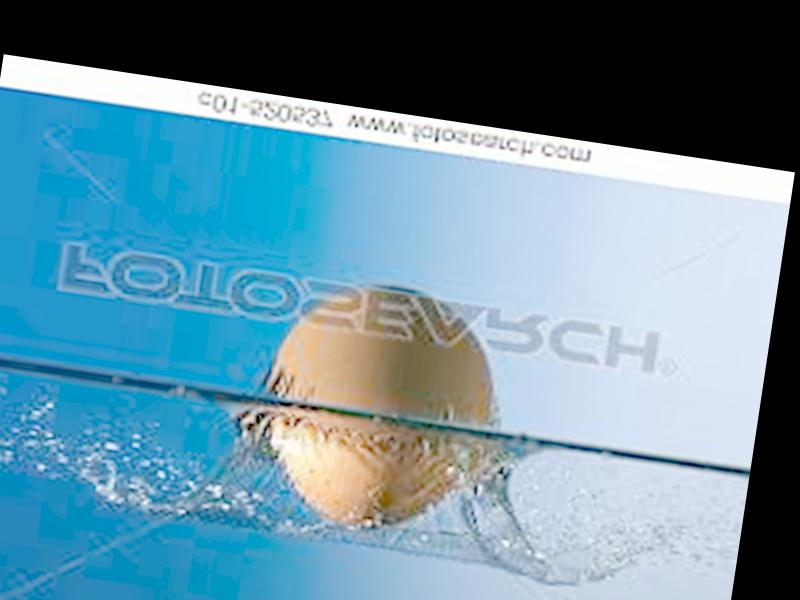Eggs: (251, 273, 509, 546)
